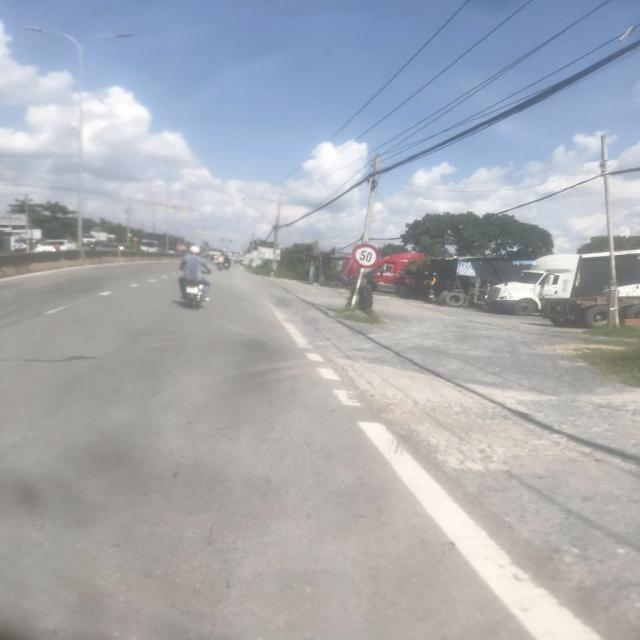127-toc-do-toi-da-50: (350, 242, 380, 269)
